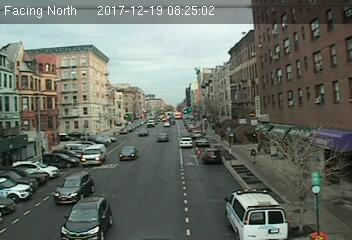car: (59, 194, 112, 240), (53, 172, 96, 203), (81, 144, 108, 165), (117, 145, 137, 160), (201, 148, 221, 162), (178, 136, 194, 149), (156, 131, 169, 143), (196, 137, 209, 147)
pedestrian: (249, 147, 259, 168)
police: (224, 186, 294, 240)
